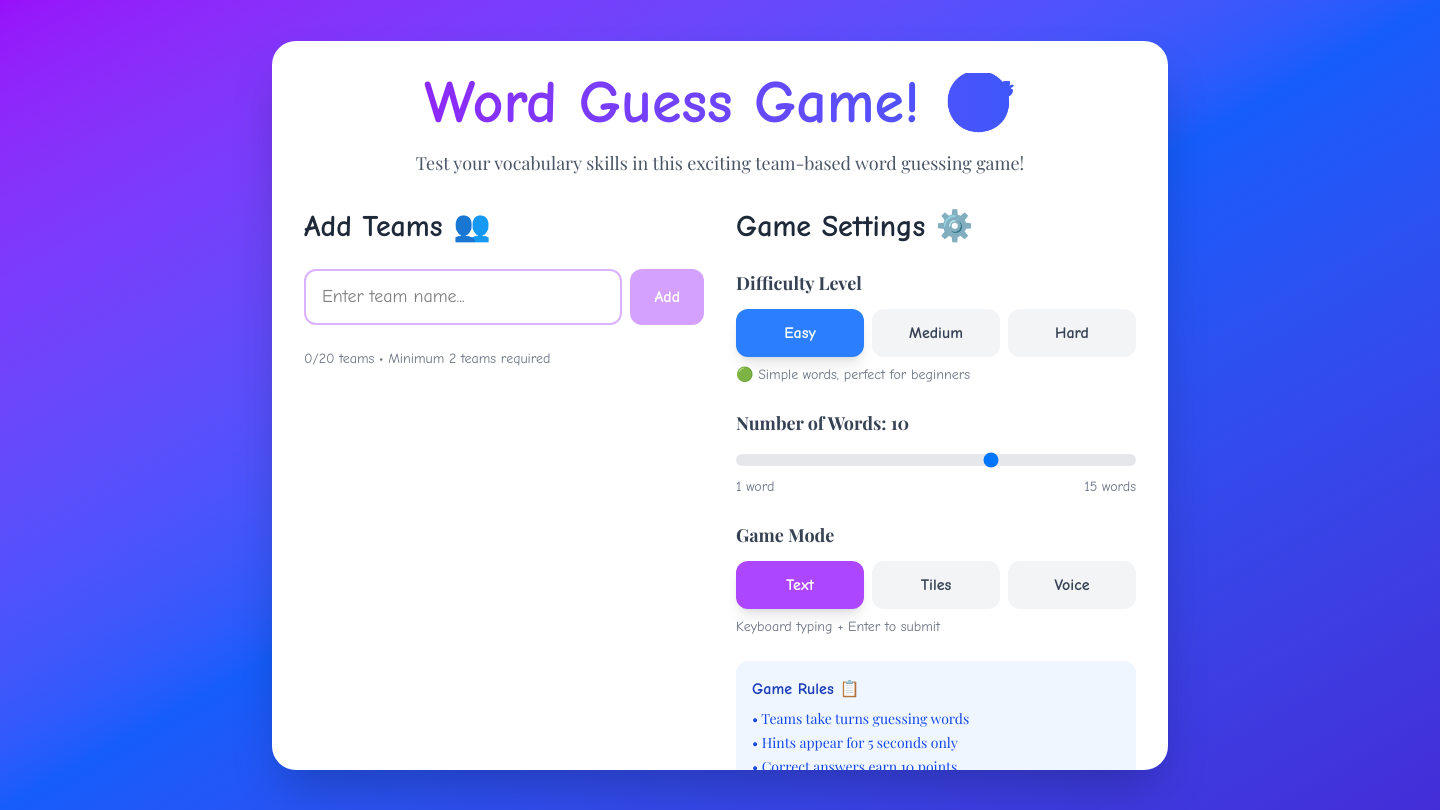
Test: StartScreen › allows adding a team
In the field with placeholder "Enter team name...": coordinates (463, 296) [304,268,622,324], type "Team Alpha"
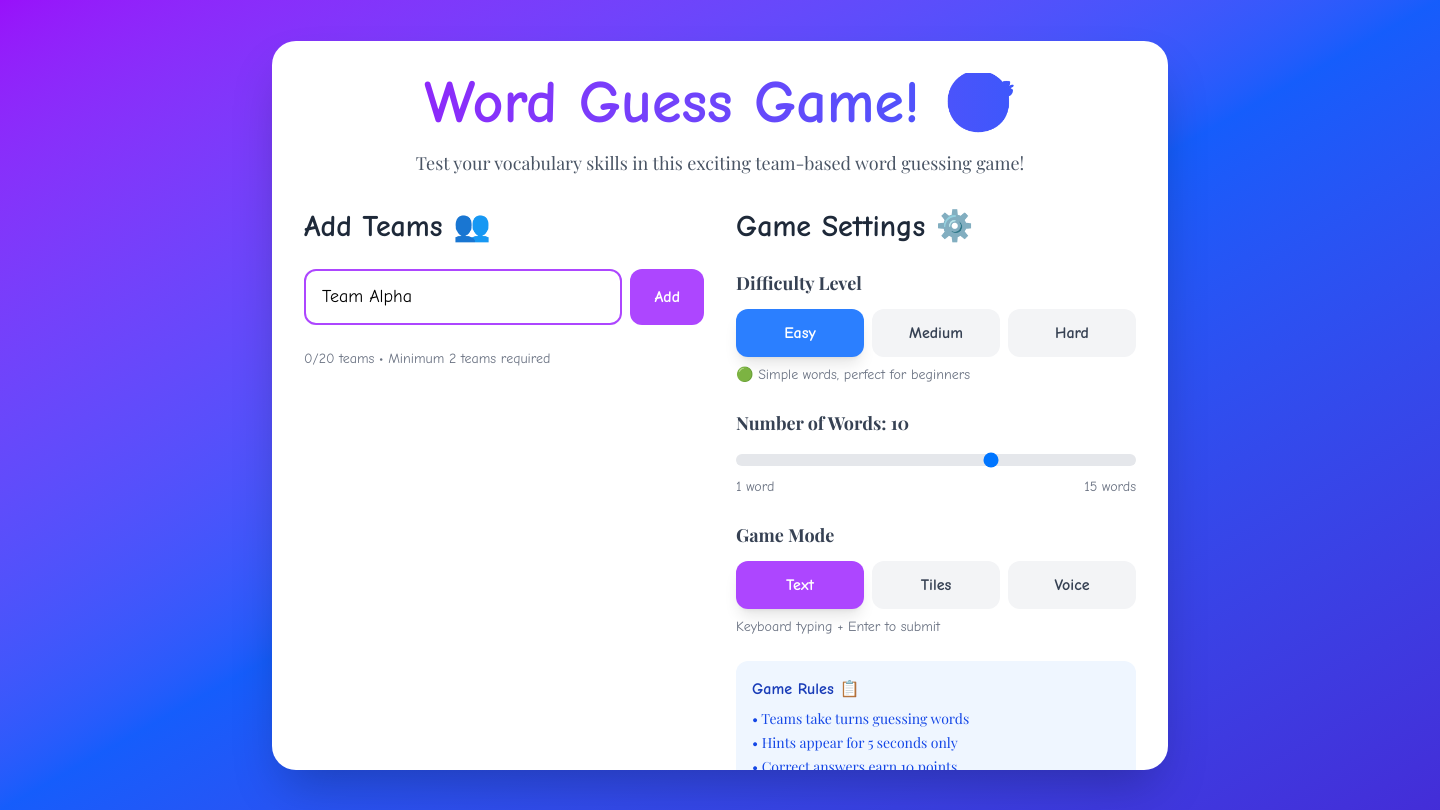
Click the button "Add": coordinates (667, 296) [630,268,704,324]
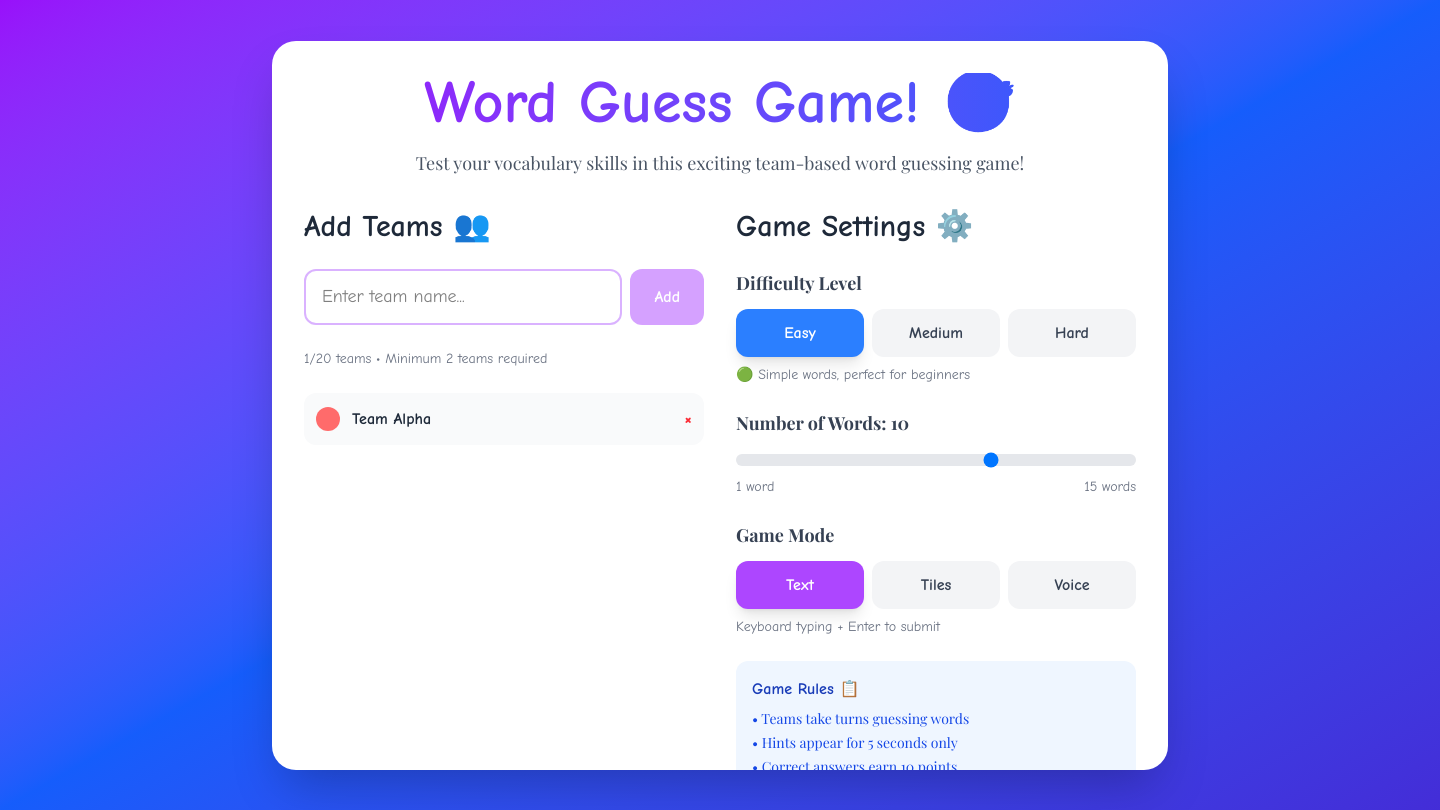
Check: the text "Team Alpha" is shown, box [352,406,431,430]
